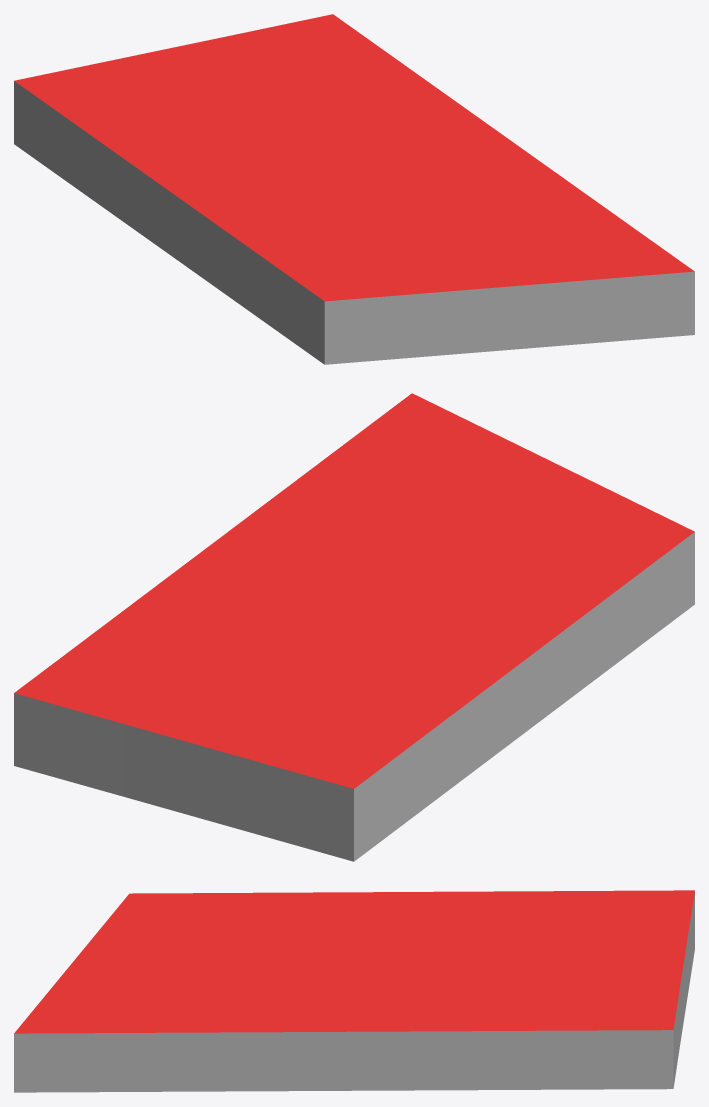
The model's file is DEBY_LOD2_104577686.dae.
3 renders of one model, top to bottom at view 1: azimuth 30°, elevation 25°; view 2: azimuth 150°, elevation 25°; view 3: azimuth 270°, elevation 25°, orthographic. The views are drawn at different scales.
Size of the model in its own units: 4.11 by 8.26 by 0.79.
